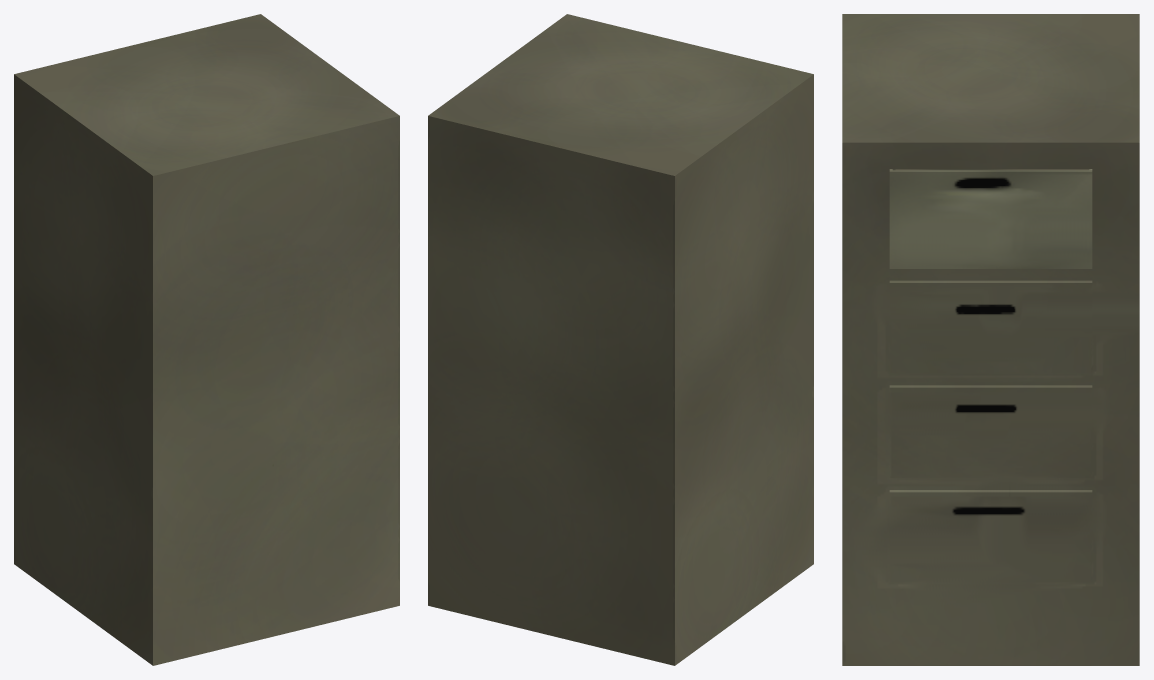
The model's file is cabinet.fbx.
3 renders of one model, left to right at view 1: azimuth 30°, elevation 25°; view 2: azimuth 150°, elevation 25°; view 3: azimuth 270°, elevation 25°, orthographic. The views are drawn at different scales.
Visible parts, largest first — view 1: Cube; view 2: Cube; view 3: Cube, Cube.001.
Boxes of the visible parts, bbox=[...] form: Cube: bbox=[14, 14, 399, 665]; Cube: bbox=[428, 14, 813, 665]; Cube: bbox=[842, 14, 1139, 665]; Cube.001: bbox=[889, 169, 1092, 268].
Size of the model in its own units: 368 by 683 by 352.
1 material, 1 textured.
